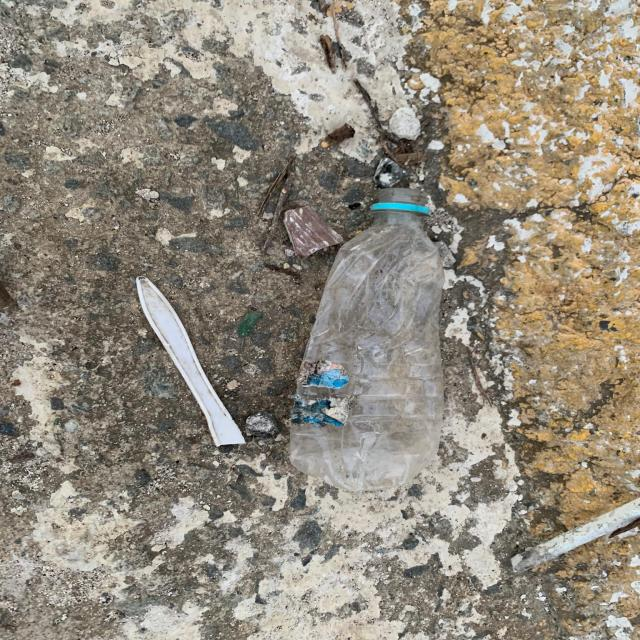litter: (125, 187, 451, 493)
